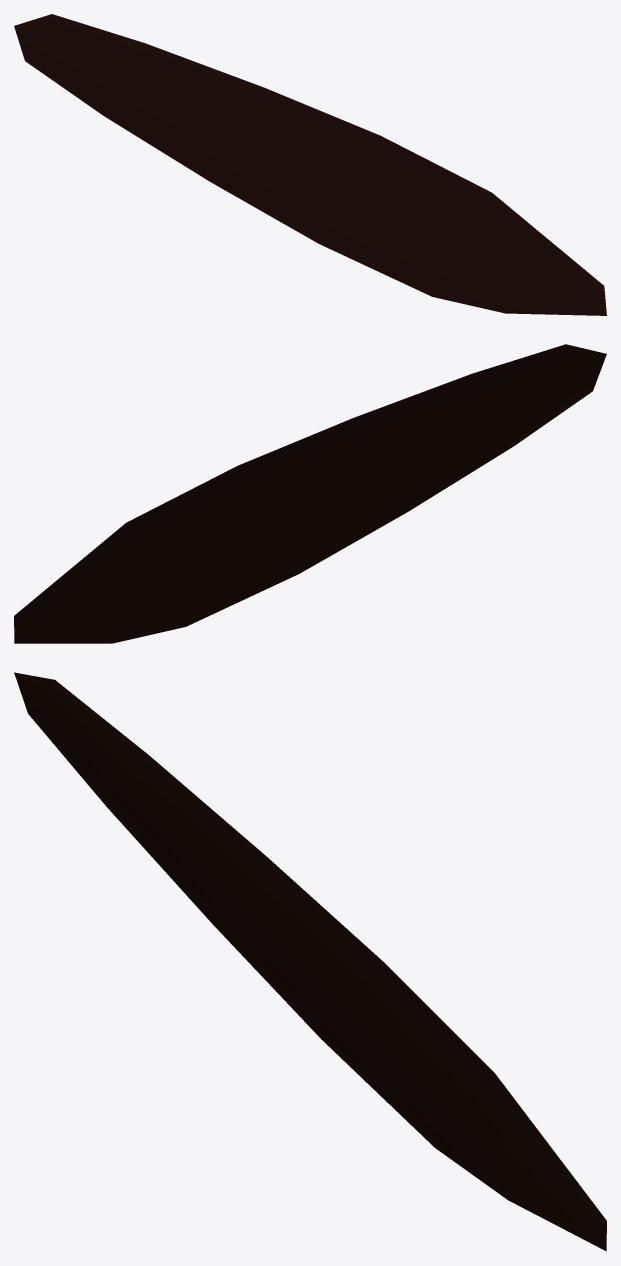
The model's file is pheasant_feather_flight_primary_019.obj.
3 renders of one model, top to bottom at view 1: azimuth 30°, elevation 25°; view 2: azimuth 150°, elevation 25°; view 3: azimuth 330°, elevation 25°, orthographic.
Parts seen in each view (by area): view 1: feather_flight_primary_019; view 2: feather_flight_primary_019; view 3: feather_flight_primary_019.
Part boxes in pixels (left/top/right/bottom): feather_flight_primary_019: left=14, top=14, right=606, bottom=315; feather_flight_primary_019: left=14, top=344, right=606, bottom=643; feather_flight_primary_019: left=14, top=672, right=606, bottom=1251.
Bounding box in the file's own units: 0.1184 × 0.0831 × 0.00054.
